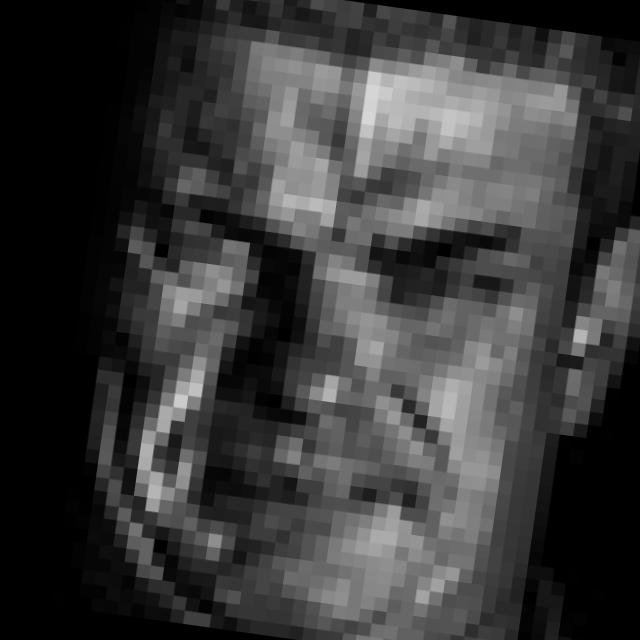disgust: (107, 170, 529, 600)
